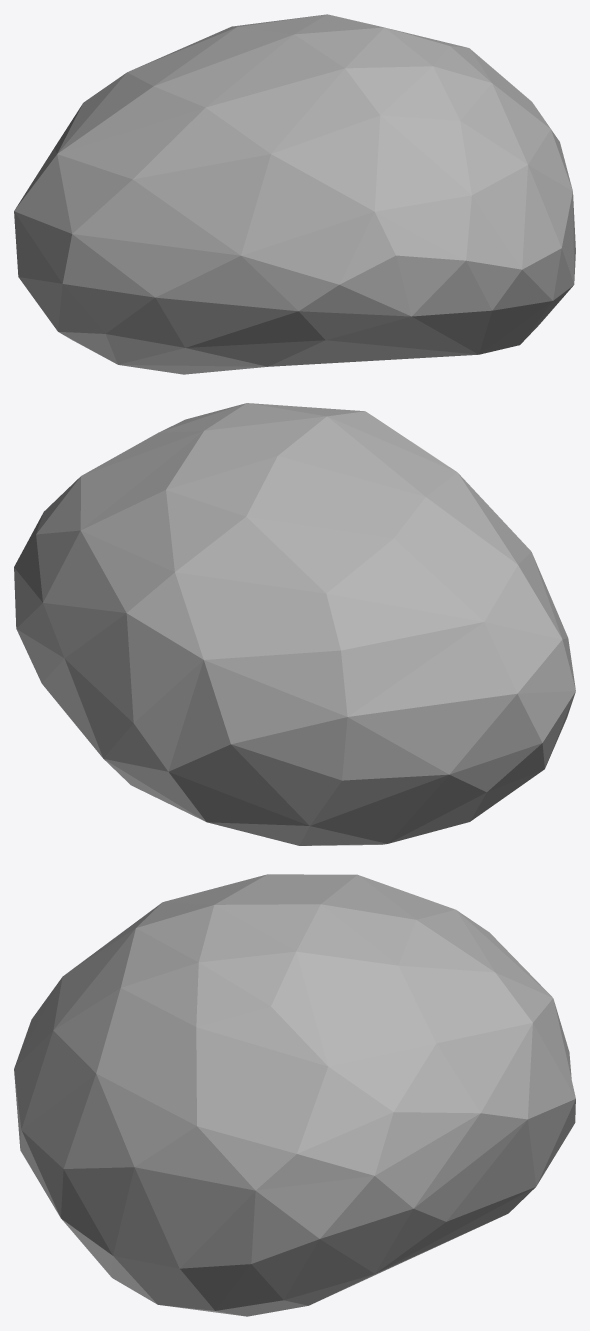
File: pedra03.fbx
The picture shows the model from 3 angles, top to bottom: view 1: azimuth 30°, elevation 25°; view 2: azimuth 150°, elevation 25°; view 3: azimuth 270°, elevation 25°; orthographic projection. The views are drawn at different scales.
Visible parts, largest first — view 1: Esfera icosaédrica.006; view 2: Esfera icosaédrica.006; view 3: Esfera icosaédrica.006.
Boxes of the visible parts, x1,y1,x2,y2 form: Esfera icosaédrica.006: [14, 14, 575, 374]; Esfera icosaédrica.006: [14, 403, 575, 845]; Esfera icosaédrica.006: [14, 874, 575, 1316].
Size of the model in its own units: 243 by 141 by 216.
Materials: 1 (1 with a texture image).
